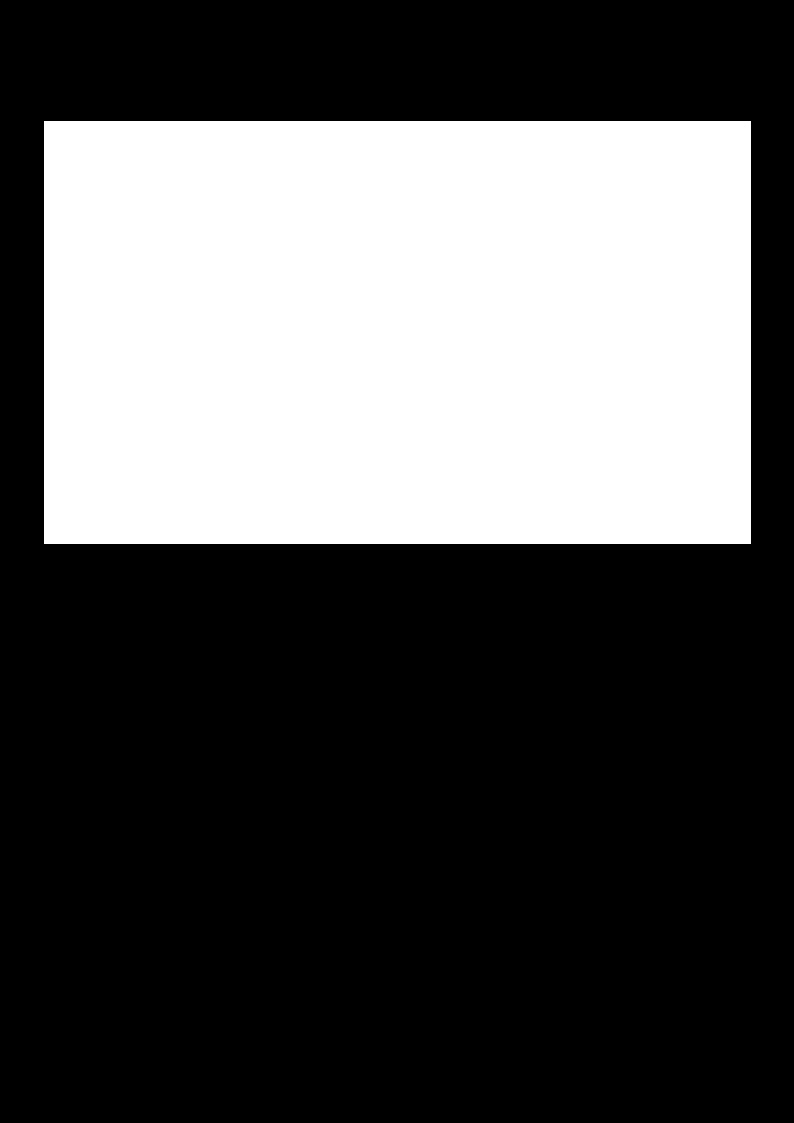table: (44, 121, 750, 543)
